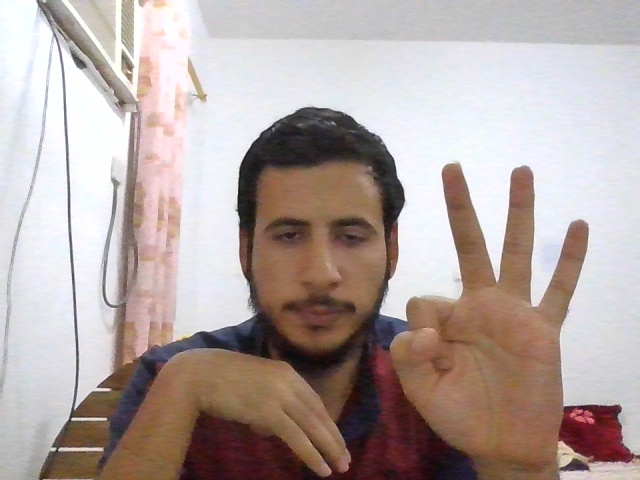Three: (389, 162, 589, 456)
